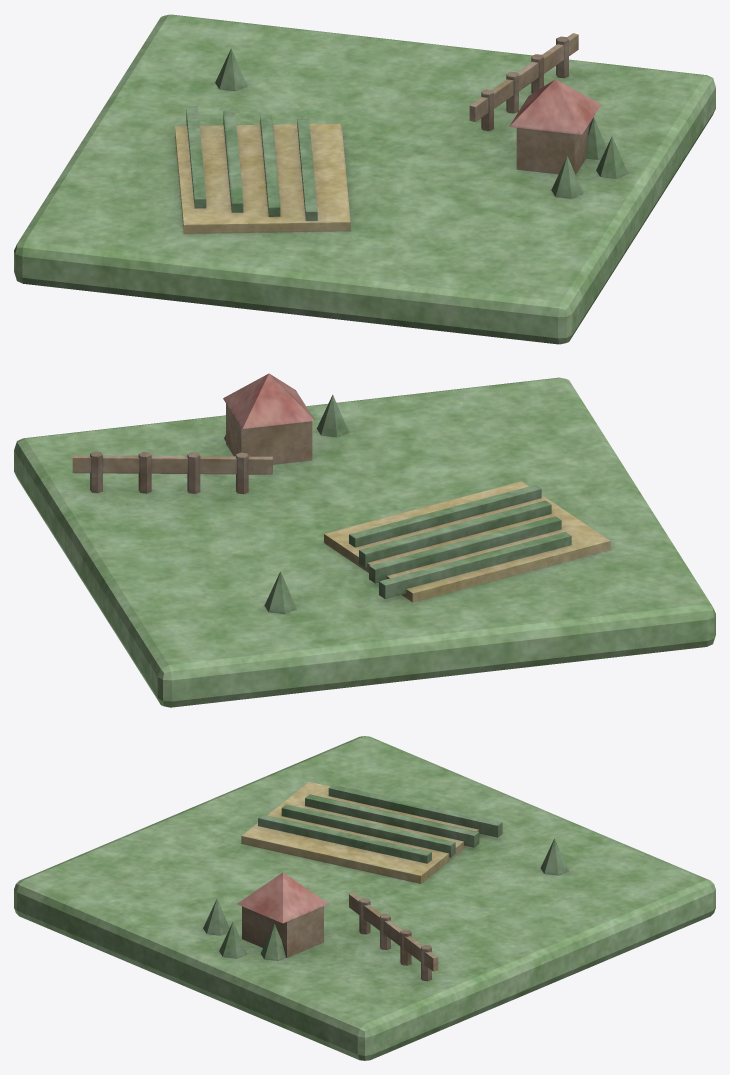
Rendered from aldar_plains.glb.
3 renders of one model, top to bottom at view 1: azimuth 30°, elevation 25°; view 2: azimuth 150°, elevation 25°; view 3: azimuth 270°, elevation 25°, orthographic. The views are drawn at different scales.
Parts seen in each view (by area): view 1: dilek; view 2: dilek; view 3: dilek.
Boxes of the visible parts, x1,y1,x2,y2 form: dilek: (14, 14, 715, 344); dilek: (14, 373, 715, 707); dilek: (14, 736, 715, 1060).
Size of the model in its own units: 2.42 by 0.4 by 2.42.
Materials: 1 (1 with a texture image).
